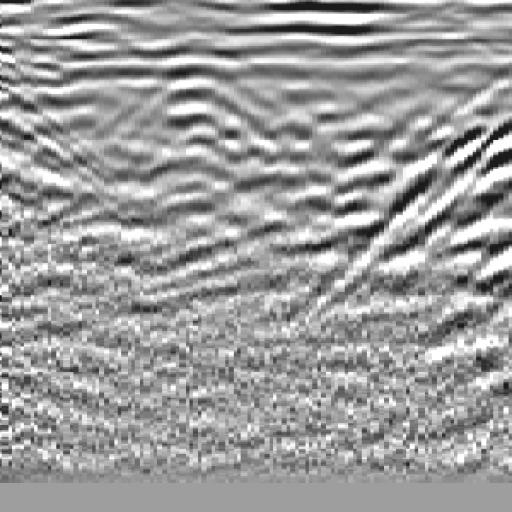metalic: (95, 28, 321, 298)
nonmetalic: (378, 44, 512, 300)
